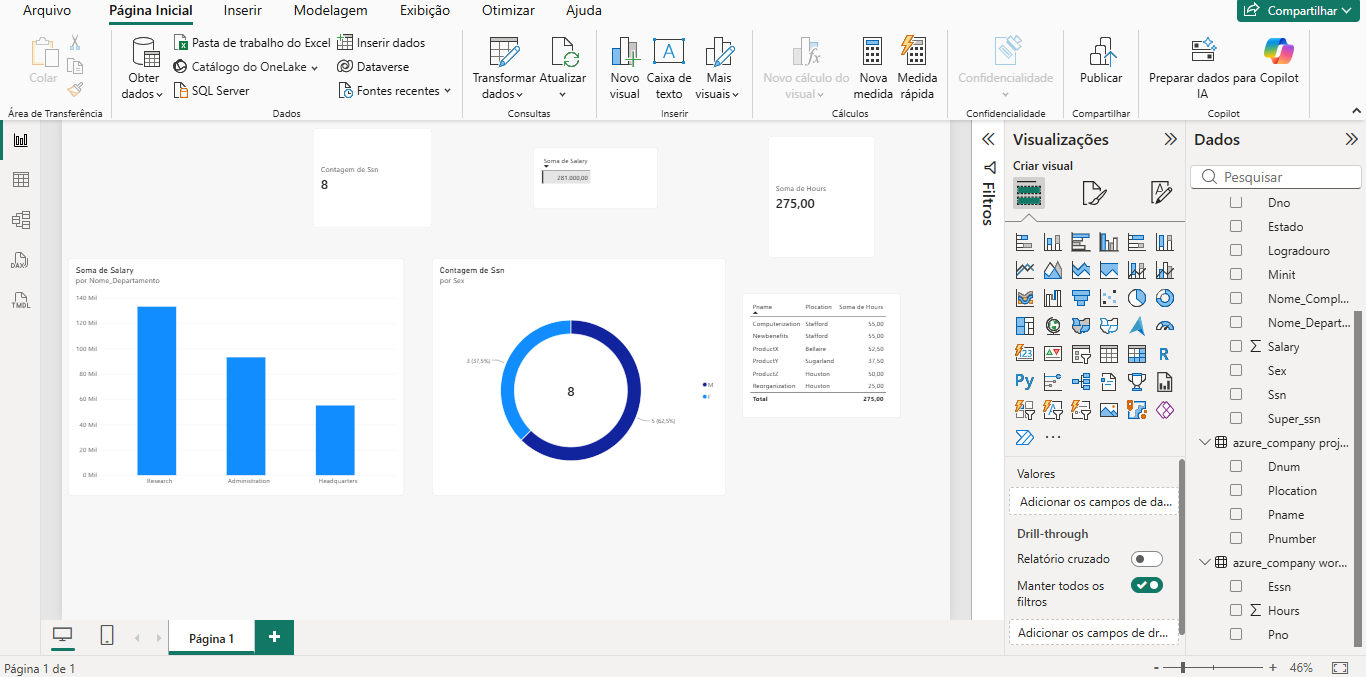

The page's visual inventory and layout, read from the dashboard file:
{"tool":"powerbi","page":{"name":"Página 1","canvas":[1920,1080],"ordinal":0},"visuals":[{"type":"cardVisual","fields":{"Data":["Count(azure_company employee.Ssn)"]},"box":[542.2,17.3,257,216],"z":0},{"type":"tableEx","fields":{"Values":["Sum(azure_company employee.Salary)"]},"box":[1017.4,58.3,270,133.9],"z":2},{"type":"cardVisual","fields":{"Data":["Sum(azure_company works_on.Hours)"]},"box":[1525,34.6,231.1,263.5],"z":3},{"type":"columnChart","fields":{"Category":["azure_company employee.Nome_Departamento"],"Y":["Sum(azure_company employee.Salary)"]},"box":[13,298.1,725.8,514.1],"z":4},{"type":"donutChart","fields":{"Category":["azure_company employee.Sex"],"Y":["CountNonNull(azure_company employee.Ssn)"]},"box":[799.2,298.1,635,514.1],"z":5},{"type":"tableEx","fields":{"Values":["azure_company project.Pname","azure_company project.Plocation","Sum(azure_company works_on.Hours)"]},"box":[1468.8,373.7,343.4,270],"z":6}]}

Visuals, with their boxes on the page's 1920x1080 design canvas (x1, y1, x2, y2). These are canvas units, not pixel positions in the 1366x677 screenshot, which may show the page scaled, cropped or inside an application window:
cardVisual - Count(azure_company employee.Ssn): [542, 17, 799, 233]
tableEx - Sum(azure_company employee.Salary): [1017, 58, 1287, 192]
cardVisual - Sum(azure_company works_on.Hours): [1525, 35, 1756, 298]
columnChart - azure_company employee.Nome_Departamento x Sum(azure_company employee.Salary): [13, 298, 739, 812]
donutChart - azure_company employee.Sex x CountNonNull(azure_company employee.Ssn): [799, 298, 1434, 812]
tableEx - azure_company project.Pname x azure_company project.Plocation: [1469, 374, 1812, 644]
